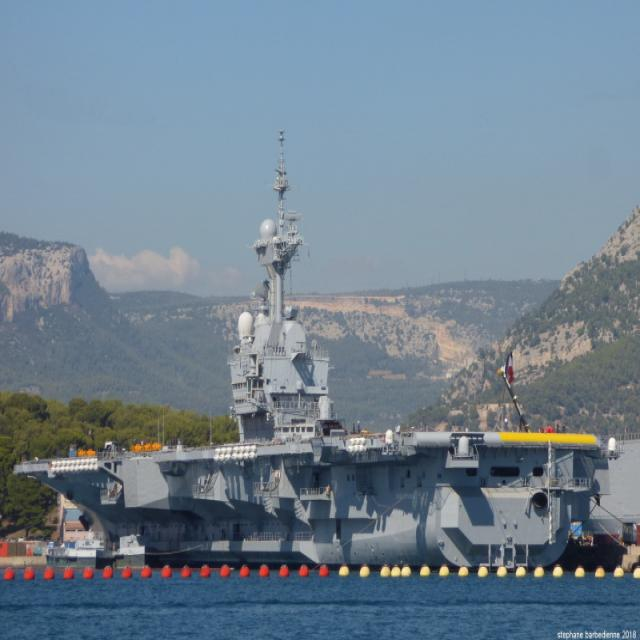Portanaves: (12, 121, 606, 566)
